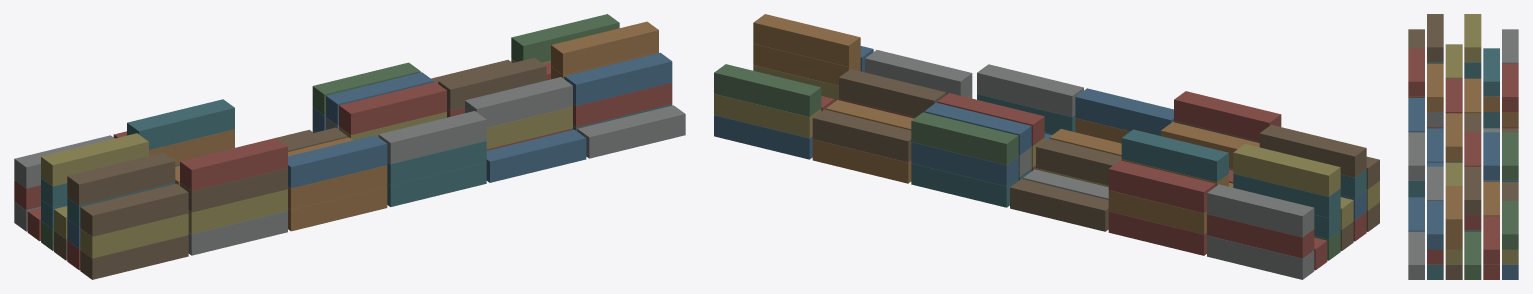
Rendered from container_stack_13.glb.
3 renders of one model, left to right at view 1: azimuth 30°, elevation 25°; view 2: azimuth 150°, elevation 25°; view 3: azimuth 270°, elevation 25°, orthographic. The views are drawn at different scales.
Visible parts, largest first — view 1: LOD0; view 2: LOD0; view 3: LOD0.
Part boxes in pixels (bbox=[...]): LOD0: bbox=[14, 14, 685, 279]; LOD0: bbox=[714, 14, 1379, 279]; LOD0: bbox=[1408, 14, 1518, 279].
Size of what is drawn, in the model's own units: 75.2 by 10.38 by 17.1.
